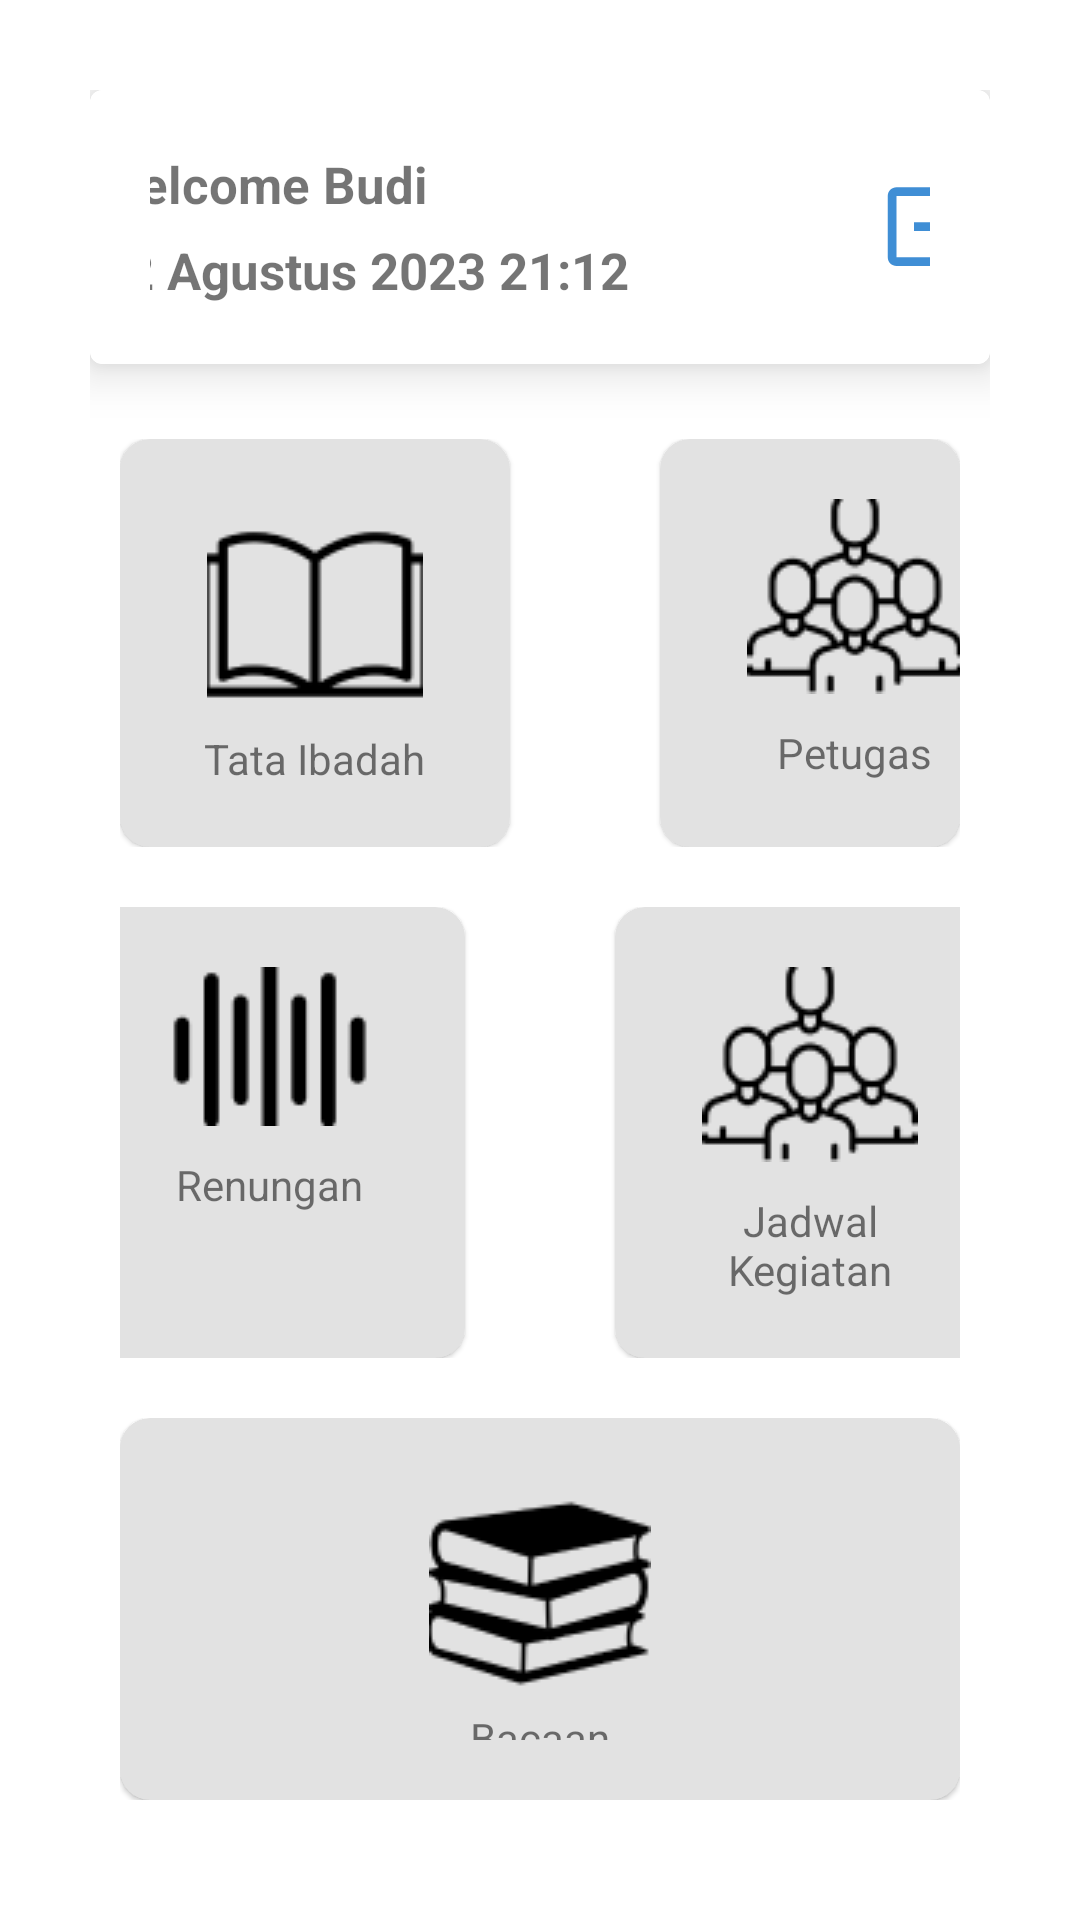

Named icons in this screenshot (1080×1920) and their bounding boxes, {"left": x1, "top": y1, "right": x2, "bottom": y2}:
book: {"left": 207, "top": 531, "right": 423, "bottom": 698}
